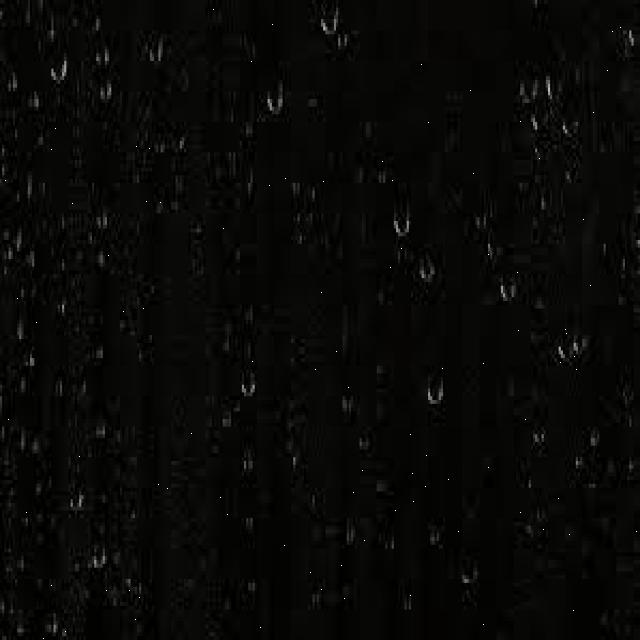raindrop: (259, 66, 291, 142), (40, 42, 80, 100), (407, 246, 444, 305), (496, 254, 528, 320), (84, 537, 115, 601), (422, 360, 450, 424), (543, 56, 572, 110), (315, 0, 345, 52), (385, 194, 413, 248), (62, 471, 88, 529)
